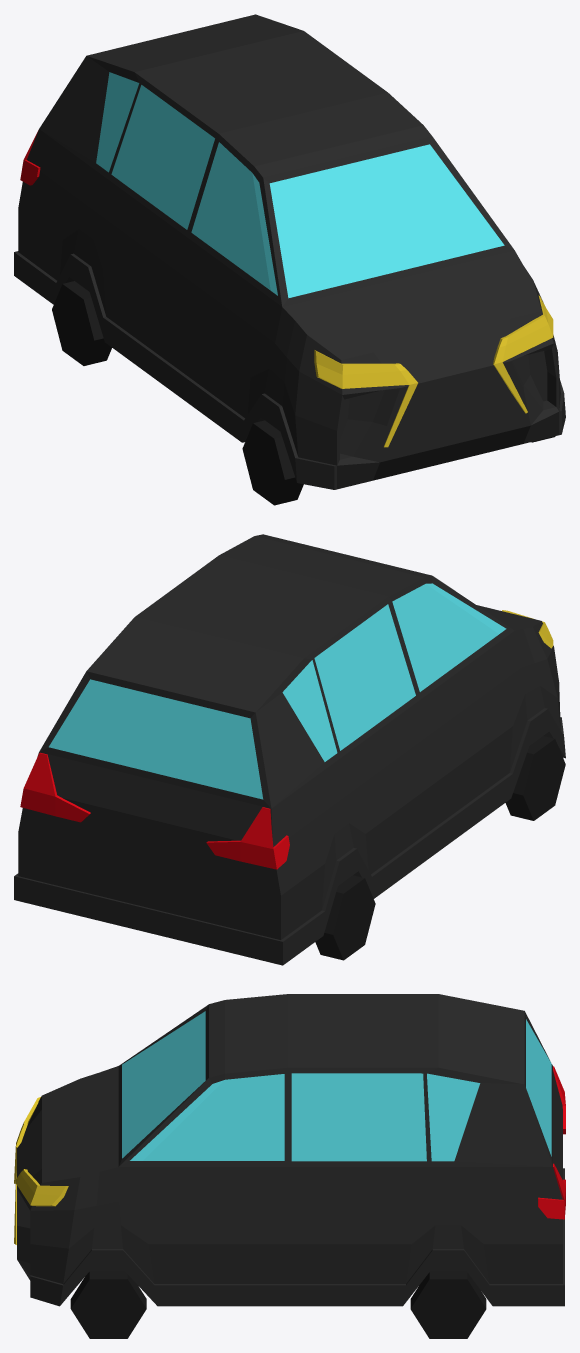
File: NPCCars3.fbx
The picture shows the model from 3 angles, top to bottom: view 1: azimuth 30°, elevation 25°; view 2: azimuth 150°, elevation 25°; view 3: azimuth 270°, elevation 25°; orthographic projection. The views are drawn at different scales.
Visible parts, largest first — view 1: Cube.018, Cube.019, Cylinder.012, Cylinder.013; view 2: Cube.018, Cube.020, Cylinder.012, Cylinder.013; view 3: Cube.018, Cylinder.012, Cylinder.013, Cube.019, Cube.020.
Part boxes in pixels (x1,y1,x2,y2): Cube.018: [14, 14, 565, 489]; Cube.019: [314, 295, 553, 447]; Cylinder.012: [242, 420, 555, 505]; Cylinder.013: [52, 281, 111, 365]; Cube.018: [14, 534, 565, 965]; Cube.020: [20, 752, 289, 869]; Cylinder.012: [505, 736, 565, 820]; Cylinder.013: [315, 875, 375, 960]; Cube.018: [17, 994, 564, 1306]; Cylinder.012: [70, 1271, 146, 1338]; Cylinder.013: [410, 1271, 486, 1338]; Cube.019: [14, 1097, 68, 1244]; Cube.020: [538, 1066, 565, 1219].
Bounding box in the file's own units: 242 × 227 × 461.
